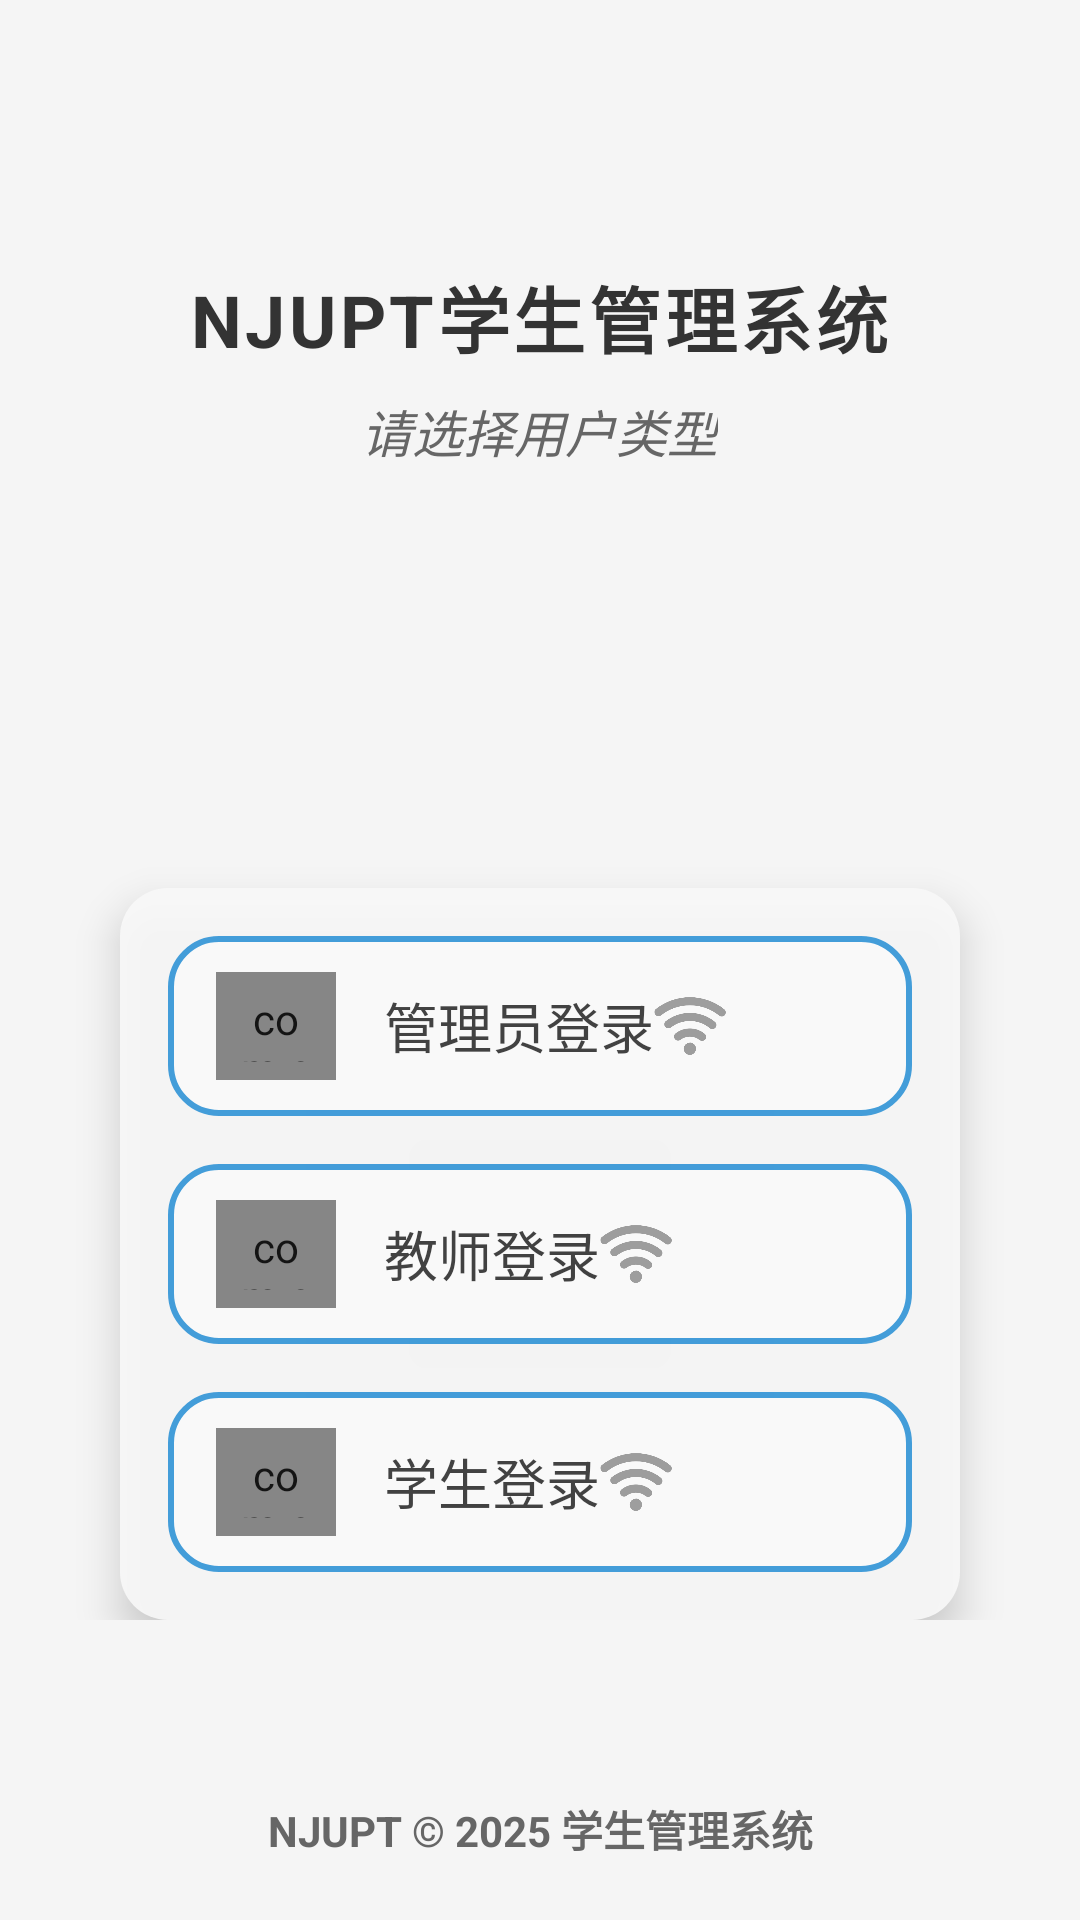

Named icons in this screenshot (1080*1920) and their bounding boxes, (x1, y1, x2, y2):
wifi: (654, 997, 726, 1055), (600, 1225, 672, 1283), (600, 1453, 672, 1511)
